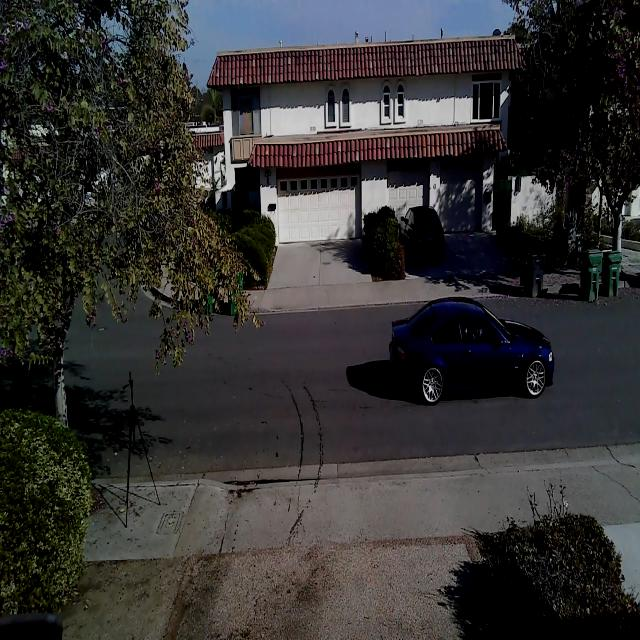Carbeetle: (384, 289, 559, 410)
Civilian: (397, 206, 445, 264)
